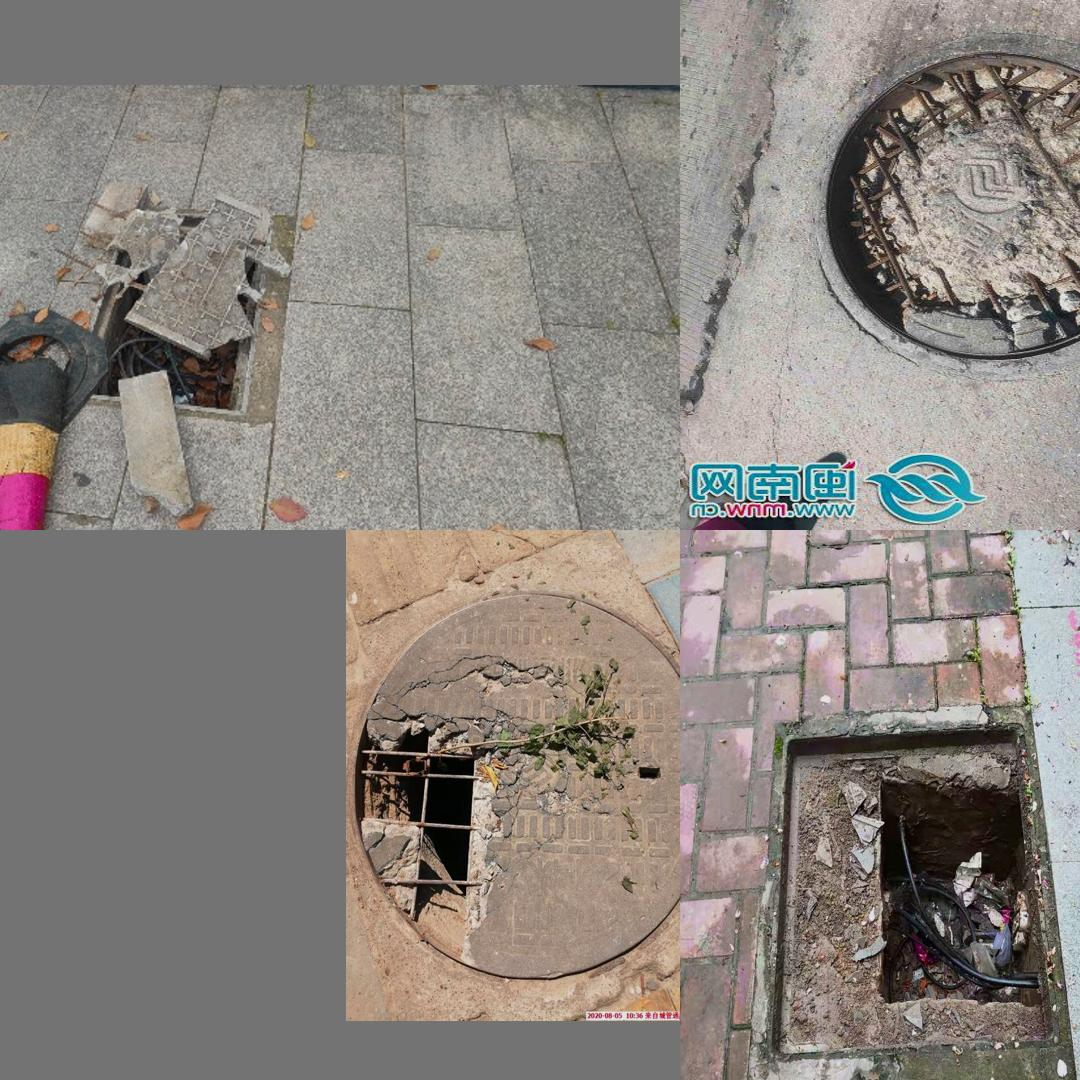broke: (354, 589, 672, 976), (763, 719, 1065, 1058), (792, 36, 1080, 371), (77, 178, 269, 415)
